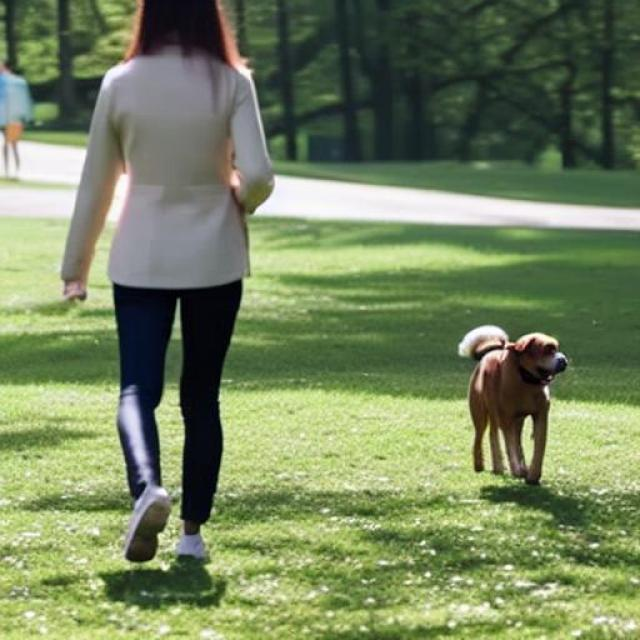Unleashed_Dog: (114, 243, 568, 487)
